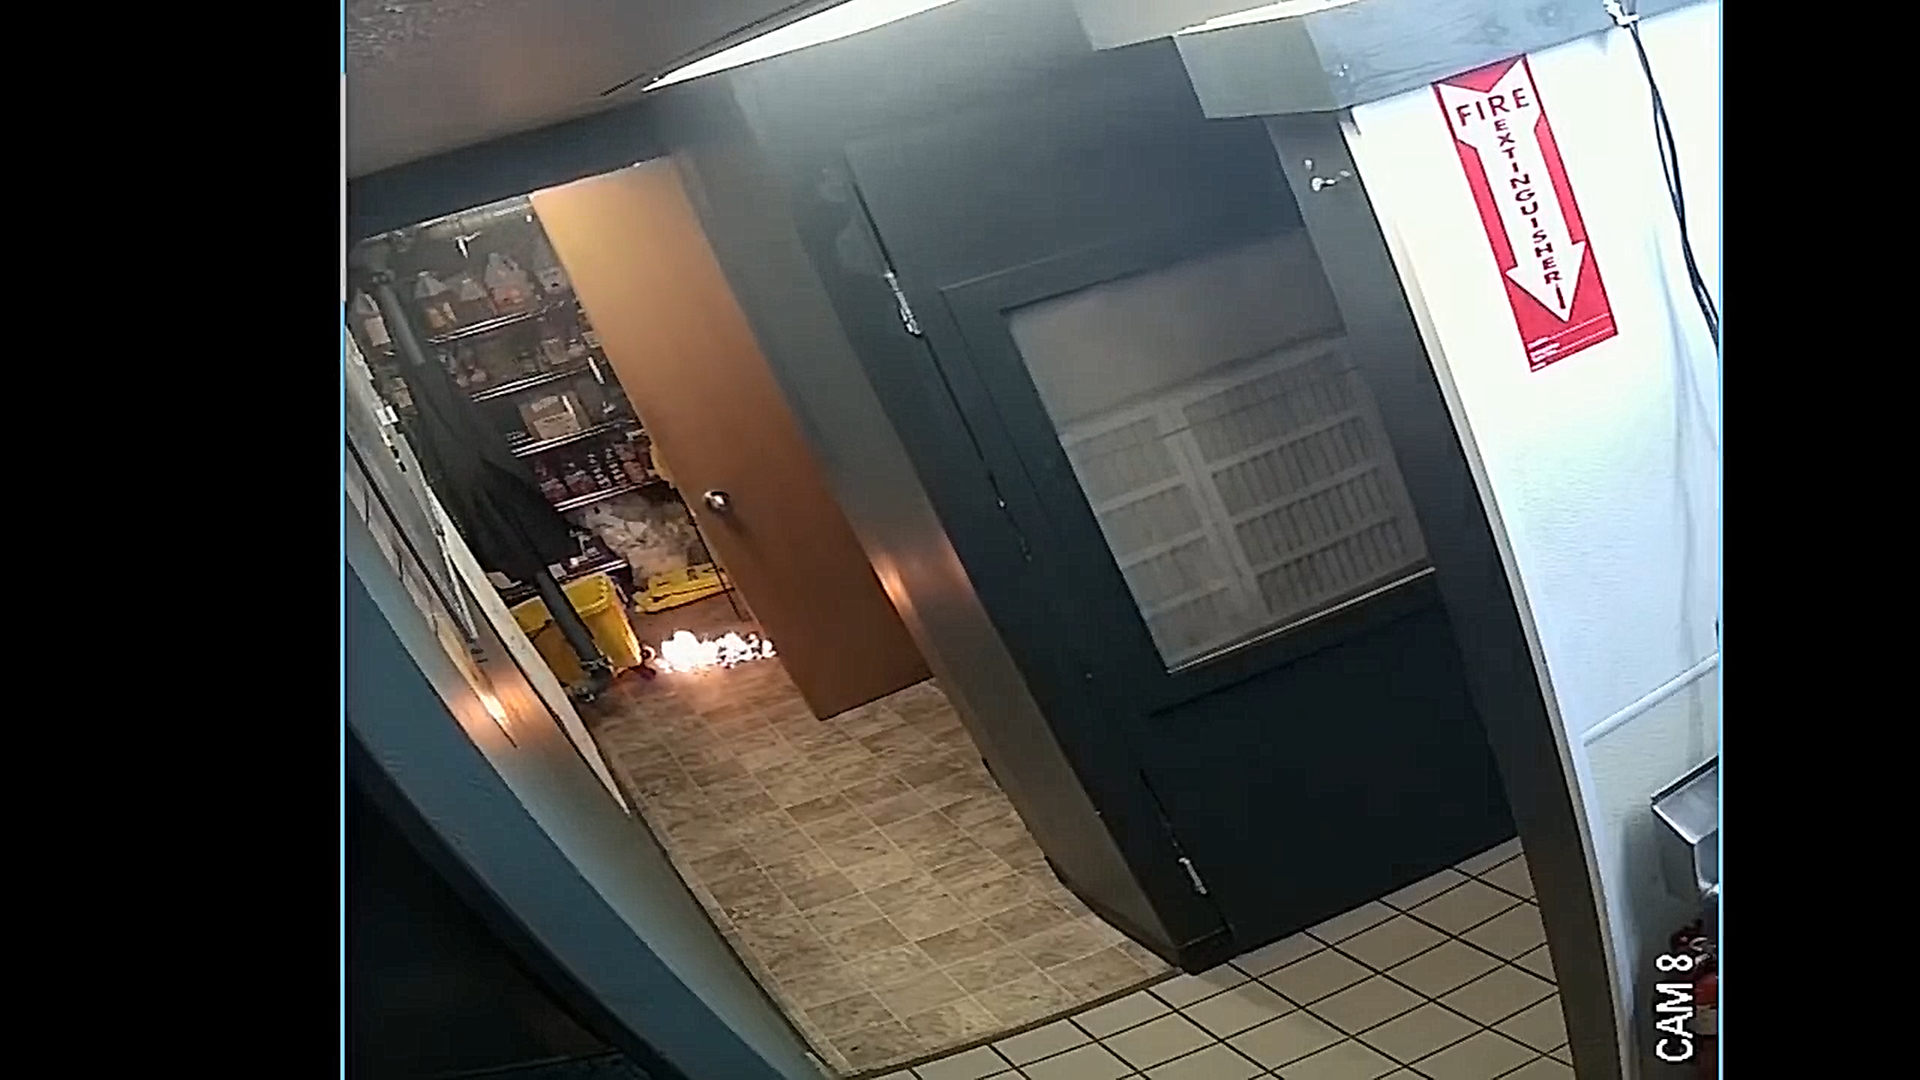fire: (644, 628, 785, 678)
